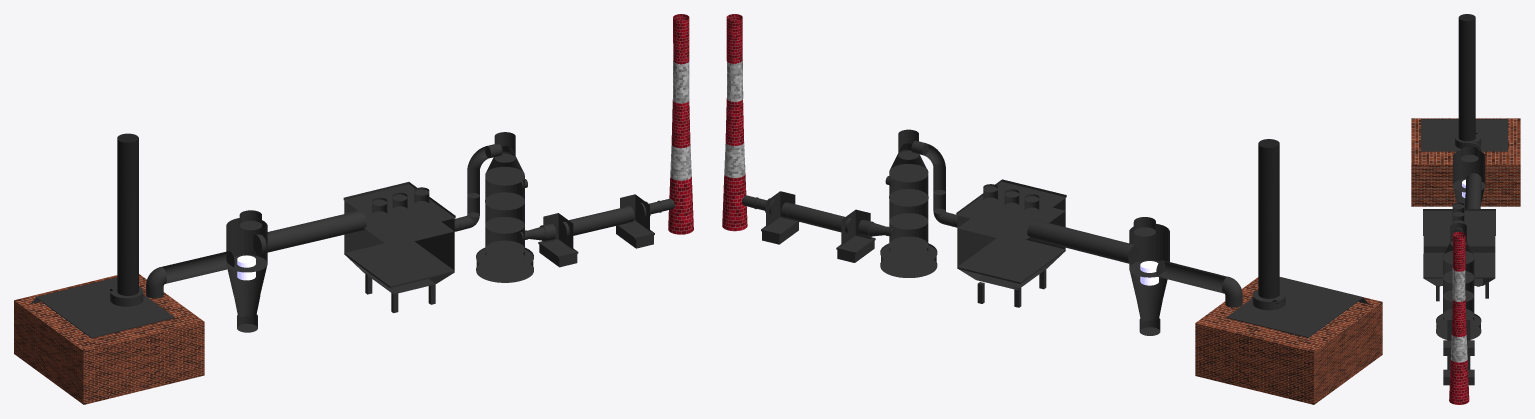
3 views of the same model, side by side, from view 1: azimuth 30°, elevation 25°; view 2: azimuth 150°, elevation 25°; view 3: azimuth 270°, elevation 25° (orthographic). The views are drawn at different scales.
Parts seen in each view (by area): view 1: Body_Outer, Куб.001, Цилиндр.001, Cylinder.001, Cylinder.003, Cylinder.004, Cylinder, Cylinder.002; view 2: Body_Outer, Куб.001, Цилиндр.001, Cylinder.001, Cylinder.004, Cylinder.003, Cylinder, Cylinder.002; view 3: Body_Outer, Куб.001, Цилиндр.001, Cylinder.001, Cylinder.003, Cylinder.004, Cylinder.002, Cylinder, Цилиндр.
Boxes of the visible parts, bbox=[...] form: Body_Outer: bbox=[30, 132, 674, 338]; Куб.001: bbox=[14, 274, 204, 404]; Цилиндр.001: bbox=[117, 133, 138, 295]; Cylinder.001: bbox=[668, 177, 693, 234]; Cylinder.003: bbox=[671, 99, 690, 148]; Cylinder.004: bbox=[673, 14, 689, 64]; Cylinder: bbox=[670, 144, 691, 180]; Cylinder.002: bbox=[673, 61, 689, 103]; Body_Outer: bbox=[742, 129, 1368, 337]; Куб.001: bbox=[1195, 277, 1382, 404]; Цилиндр.001: bbox=[1258, 139, 1279, 298]; Cylinder.001: bbox=[722, 173, 747, 231]; Cylinder.004: bbox=[726, 14, 742, 63]; Cylinder.003: bbox=[725, 98, 743, 145]; Cylinder: bbox=[724, 142, 745, 177]; Cylinder.002: bbox=[727, 59, 743, 101]; Body_Outer: bbox=[1421, 119, 1507, 385]; Куб.001: bbox=[1411, 118, 1520, 206]; Цилиндр.001: bbox=[1458, 14, 1475, 141]; Cylinder.001: bbox=[1449, 359, 1469, 404]; Cylinder.003: bbox=[1452, 299, 1466, 336]; Cylinder.004: bbox=[1452, 232, 1465, 271]; Cylinder.002: bbox=[1452, 268, 1465, 301]; Cylinder: bbox=[1450, 334, 1467, 362]; Цилиндр: bbox=[1455, 133, 1481, 148].
Size of the model in its own units: 50.73 by 16.78 by 9.59.
9 materials, 8 textured.
